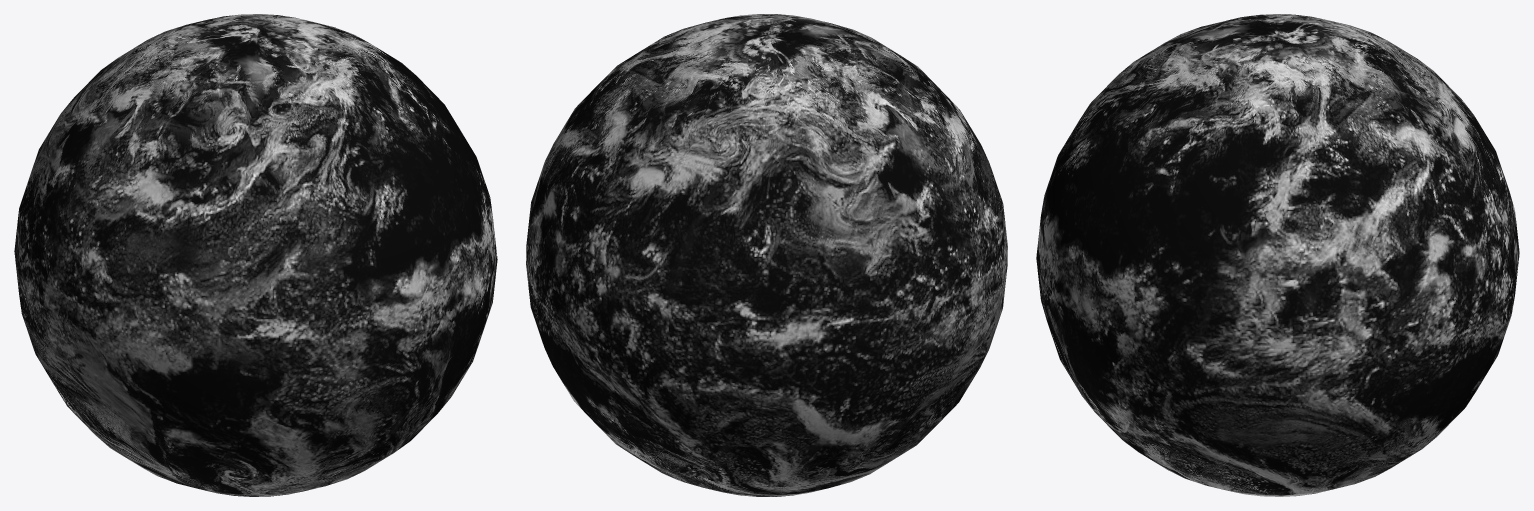
The model's file is earth.glb.
3 views of the same model, side by side, from view 1: azimuth 30°, elevation 25°; view 2: azimuth 150°, elevation 25°; view 3: azimuth 270°, elevation 25° (orthographic).
Parts seen in each view (by area): view 1: Object_3; view 2: Object_3; view 3: Object_3.
Boxes of the visible parts, x1=… form: Object_3: x1=14, y1=14, x2=497, y2=496; Object_3: x1=526, y1=14, x2=1007, y2=496; Object_3: x1=1036, y1=14, x2=1519, y2=496.
Size of the model in its own units: 1154 by 1155 by 1154.
2 materials, 2 textured.
